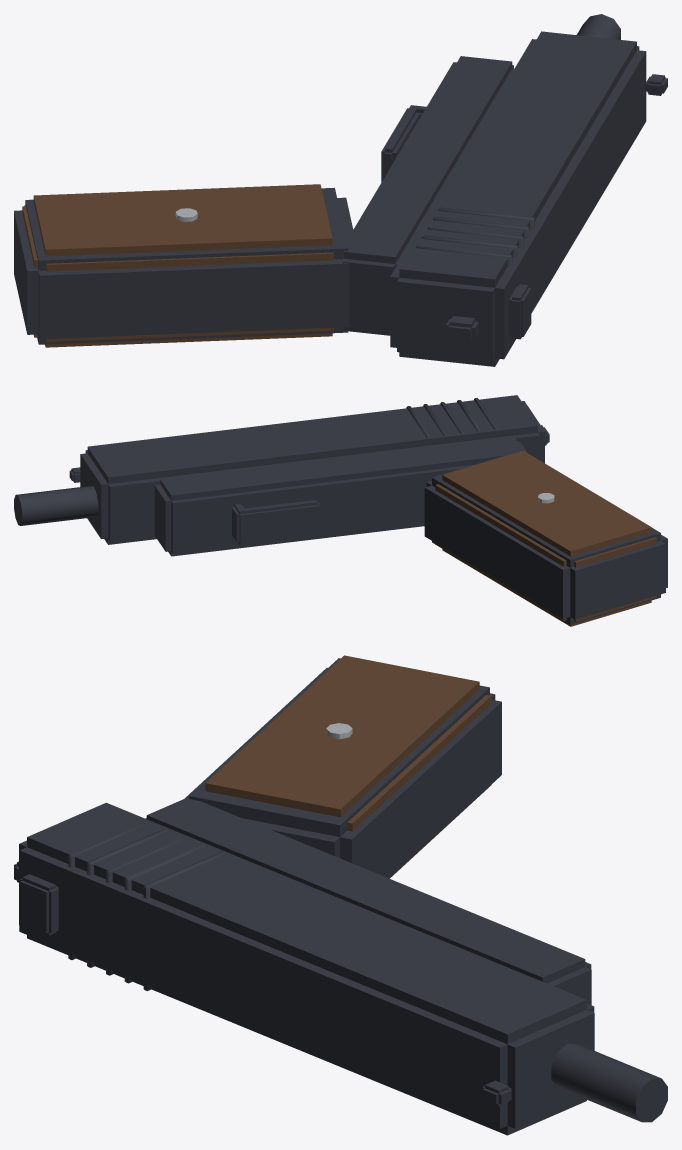
Rendered from item_pistol_ground.glb.
The picture shows the model from 3 angles, top to bottom: view 1: azimuth 30°, elevation 25°; view 2: azimuth 150°, elevation 25°; view 3: azimuth 270°, elevation 25°; orthographic projection. The views are drawn at different scales.
Parts seen in each view (by area): view 1: pistol_ground; view 2: pistol_ground; view 3: pistol_ground.
Boxes of the visible parts, left/top/right/bottom form: pistol_ground: left=14, top=14, right=667, bottom=366; pistol_ground: left=14, top=395, right=667, bottom=626; pistol_ground: left=14, top=655, right=667, bottom=1135.
Size of what is drawn, in the model's own units: 0.2193 by 0.0298 by 0.1494.
